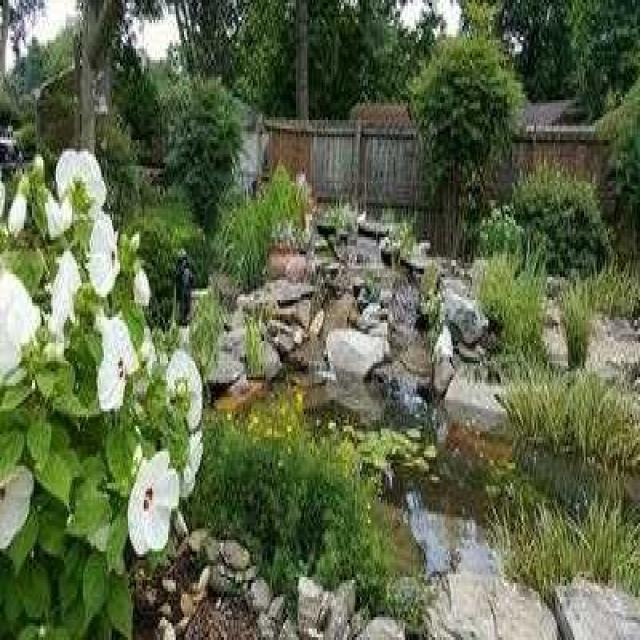Ponds: (169, 213, 640, 640)
